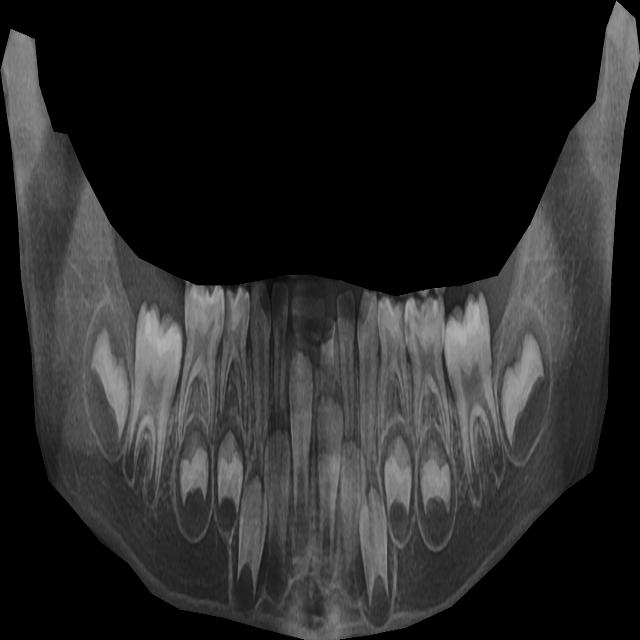mandibula: (0, 0, 640, 640)
